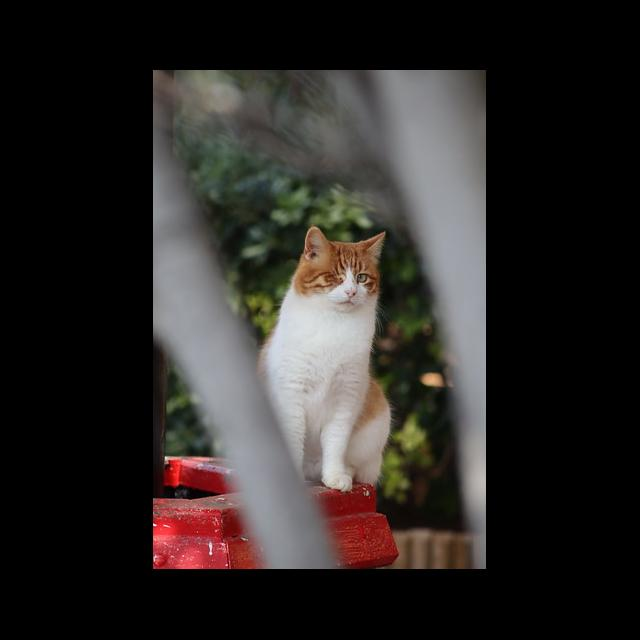animals: (235, 226, 391, 493)
